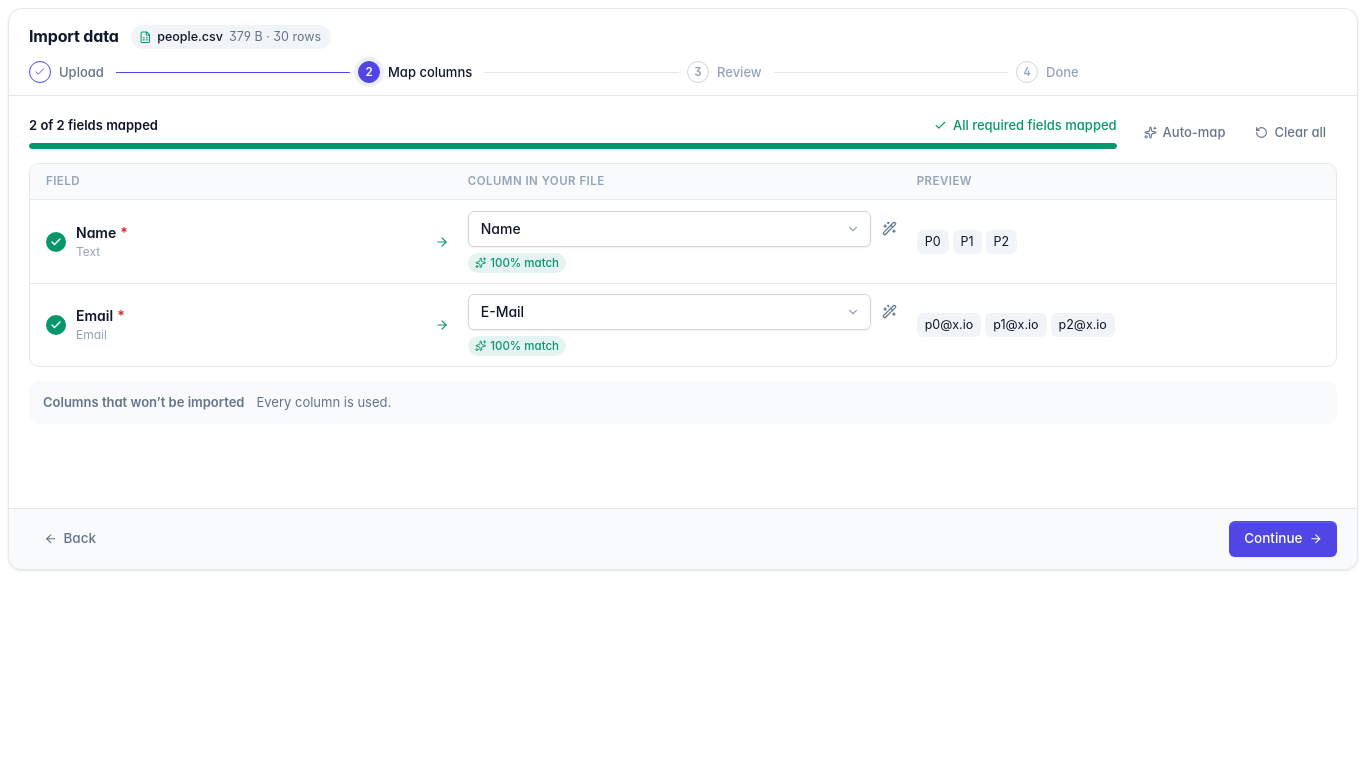
works end to end with a worker session
Expected: the text "2 of 2 fields mapped" is shown, [29,116,158,135]
Expected: the text "P0" is shown, [917,230,949,254]
Click the button "Continue": (1283, 539) [1229,521,1337,557]
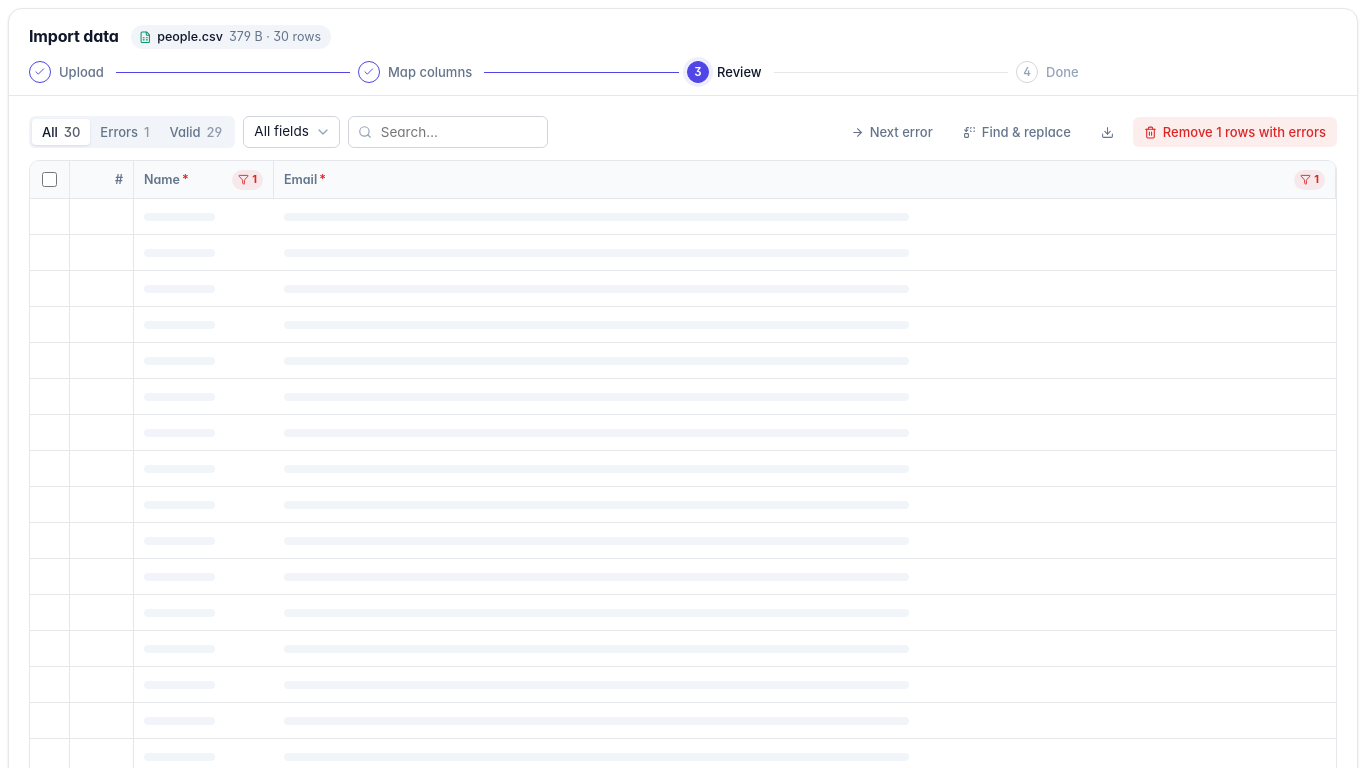
// "Next error" asks the worker where it is, then loads that row's page to show its issue
Click the button "Next error": (892, 132) [840,117,944,147]
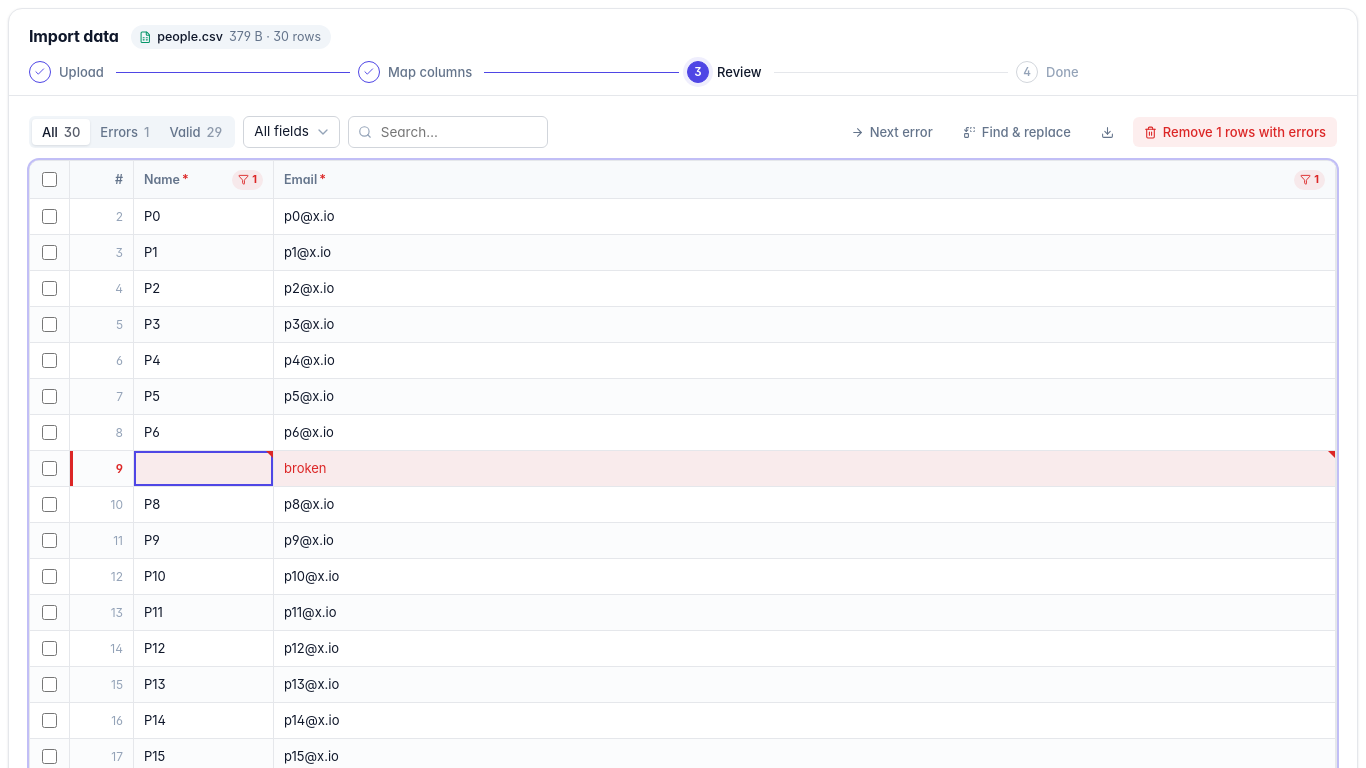
Click the button "Remove 1 rows with errors": (1235, 132) [1133,117,1337,147]
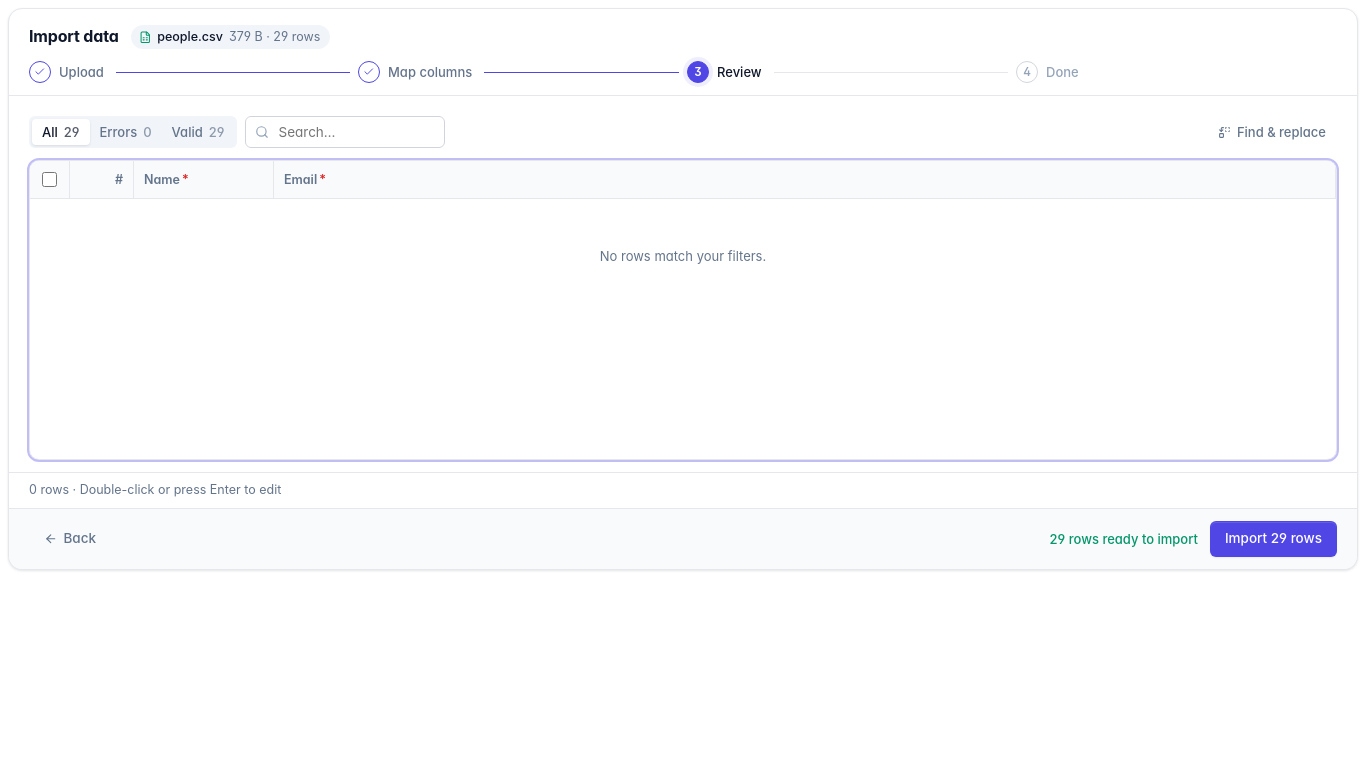
Expected: the text "29 rows ready to import" is shown, [1050,530,1198,548]
Click the button "Import 29 rows": (1273, 539) [1210,521,1337,557]
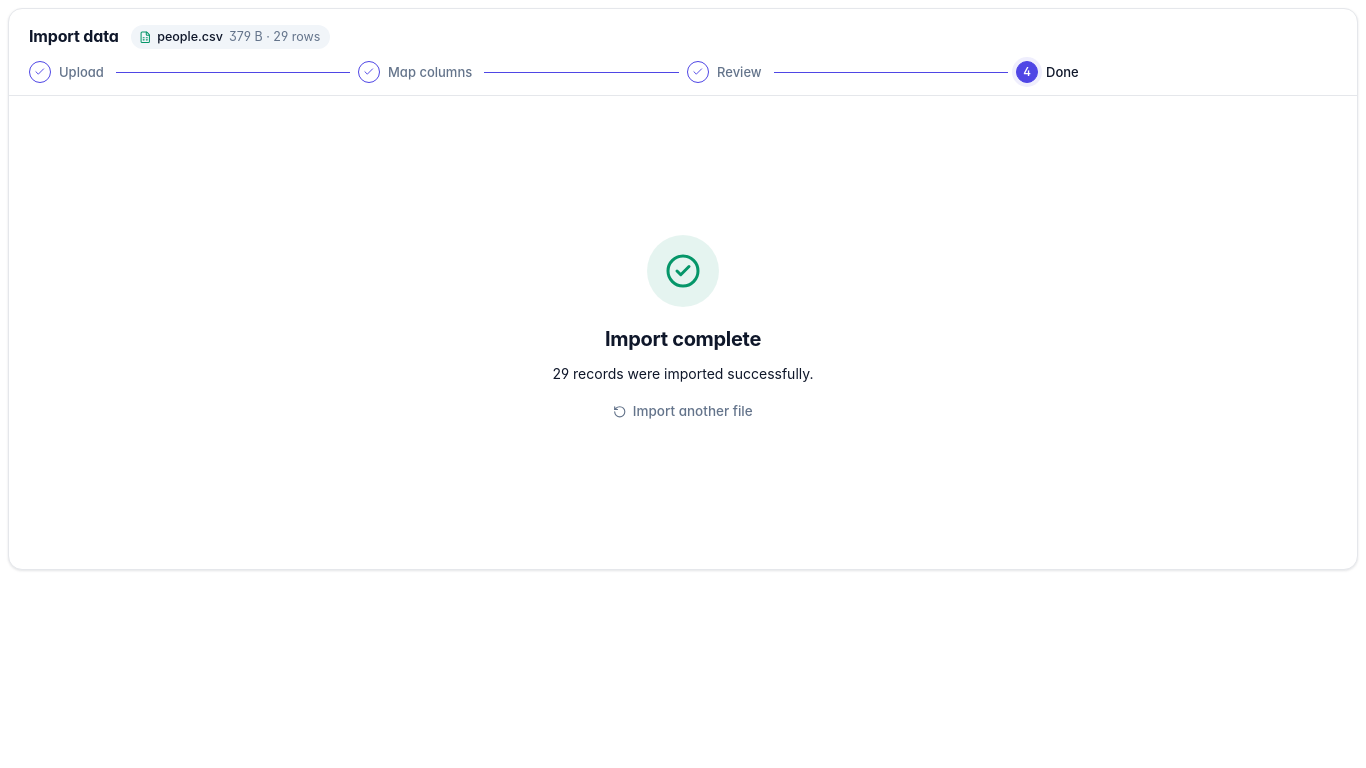
Expected: the heading "Import complete" is shown, [605,325,761,354]
